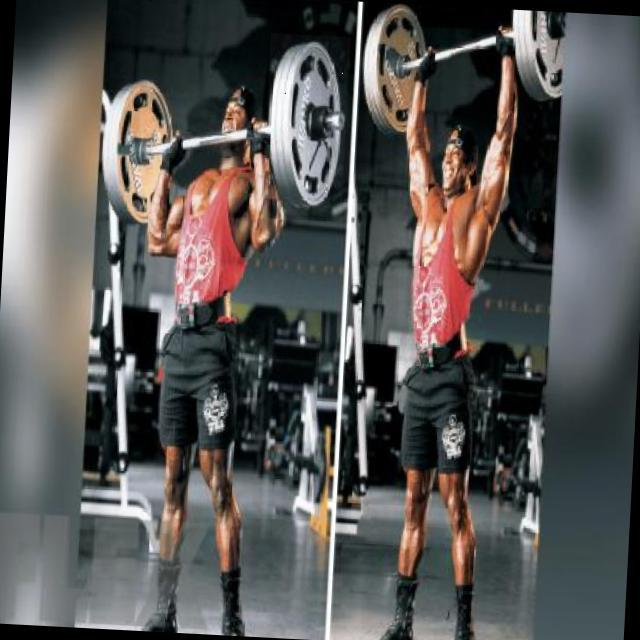barbell: (262, 34, 352, 224)
